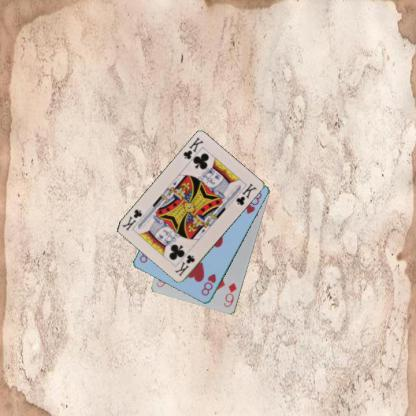6d: (221, 280, 238, 309)
8h: (199, 271, 217, 297)
Kc: (172, 252, 197, 278), (180, 135, 205, 161)
